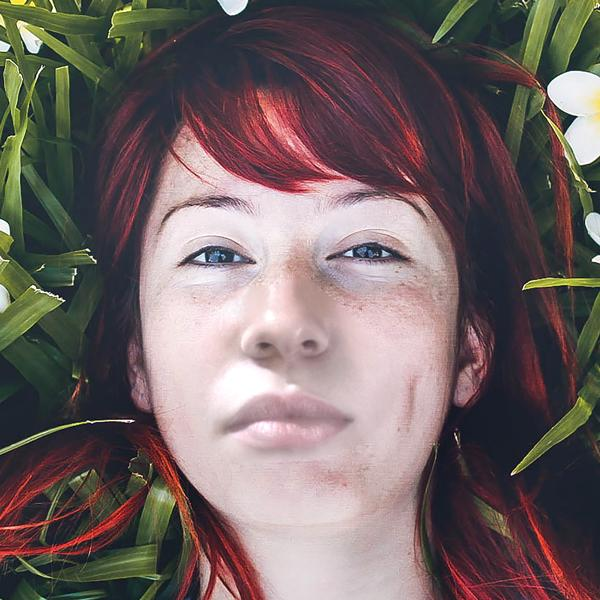Eyes: (315, 216, 420, 284), (168, 224, 259, 282)
